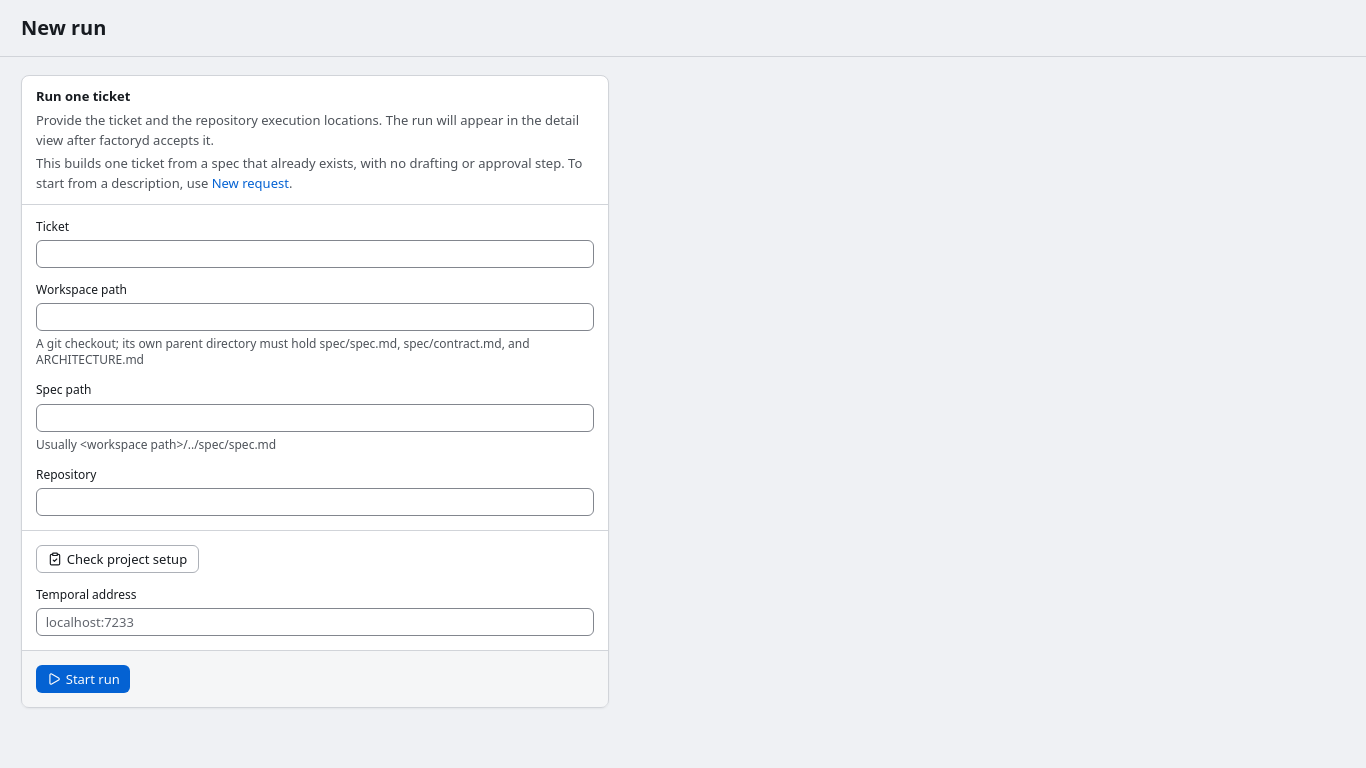
Test: "Check project setup" reports a passing project without starting a run
Type "/repo/workspace" into the field labelled "Workspace path" at (315, 317), box [36,303,594,331]
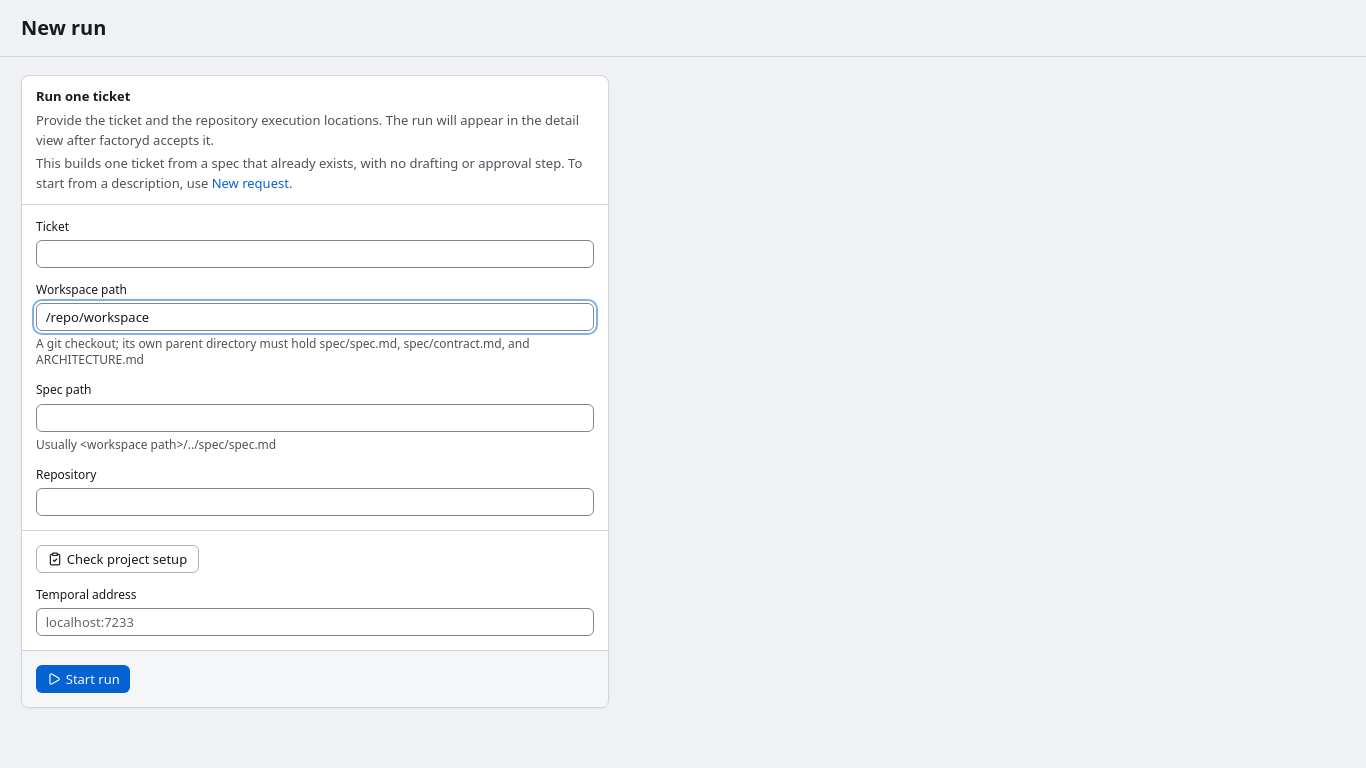
Type "/projects/app" into the field labelled "Repository" at (315, 502), box [36,488,594,516]
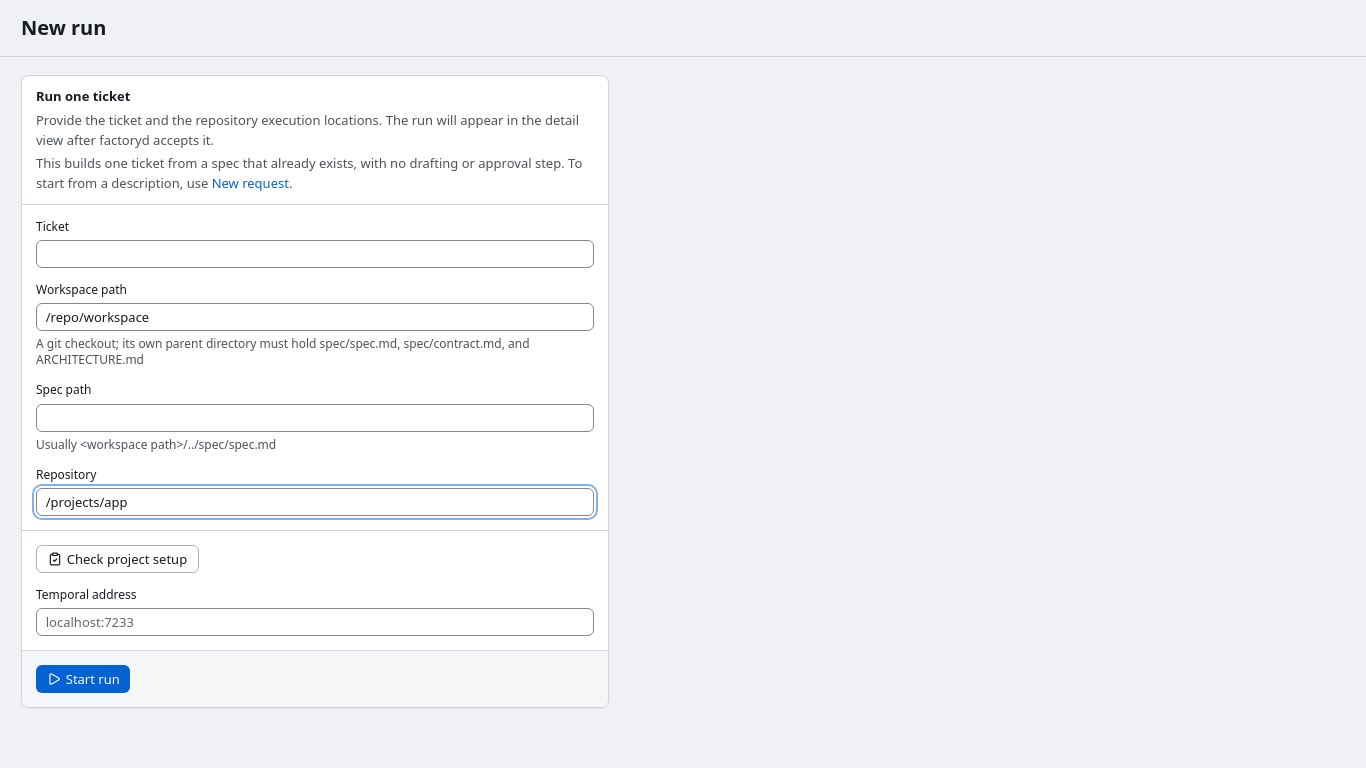
Click the button "Check project setup" at (117, 559), box [36,545,199,573]
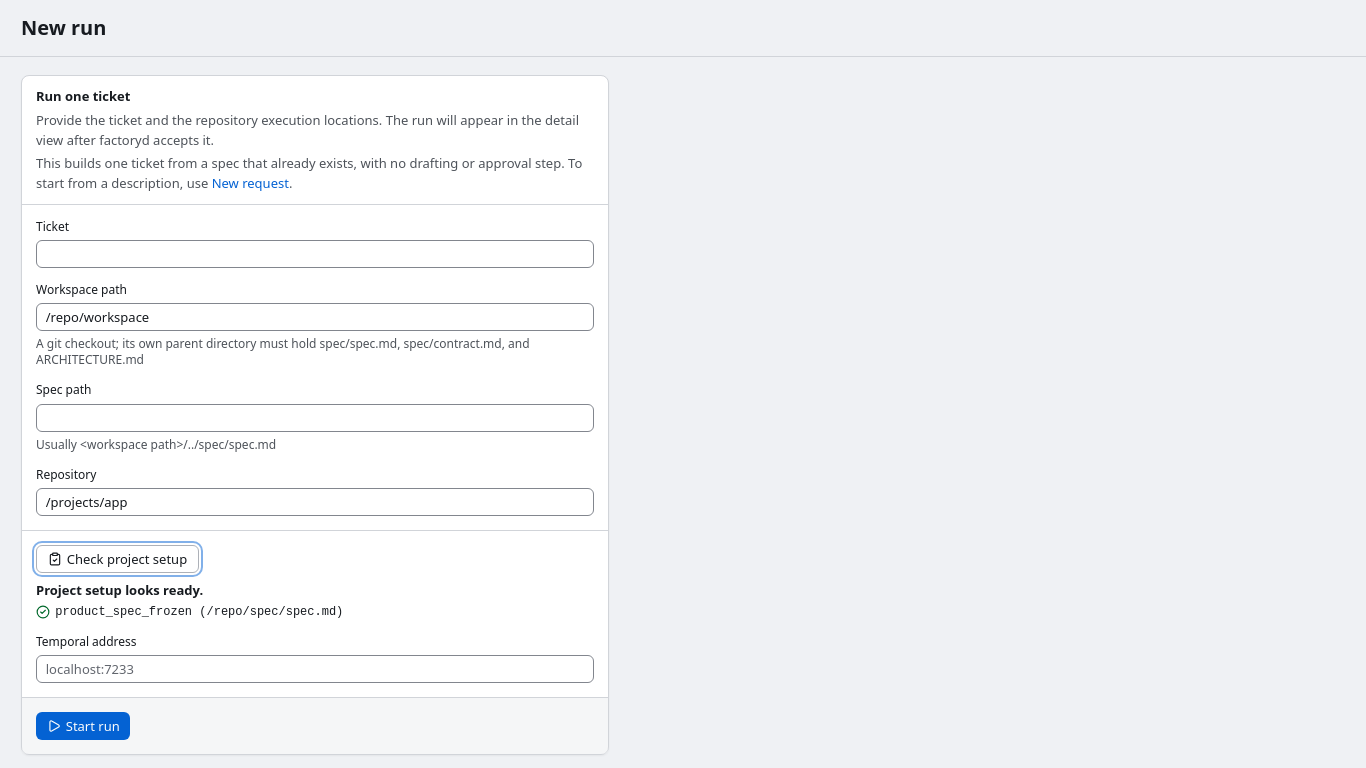
Now the text "Project setup looks ready." is shown, box [36,581,203,599]
Now the text "product_spec_frozen (/repo/spec/spec.md)" is shown, box [55,604,343,620]
